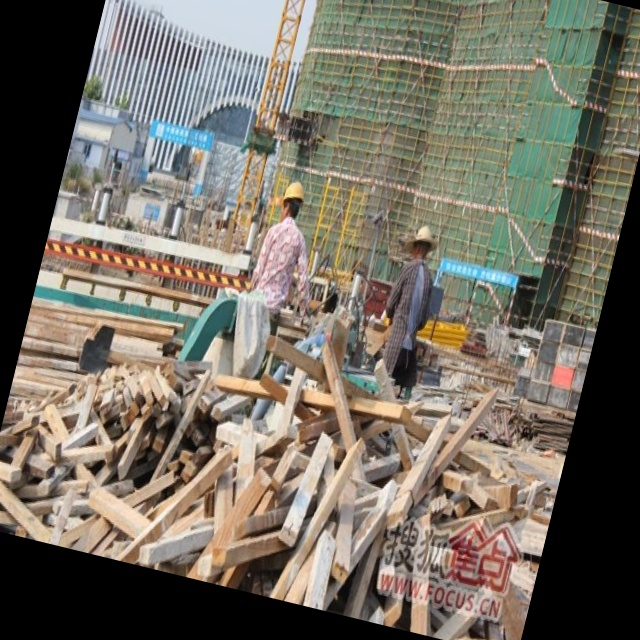Con_Casco: (278, 179, 308, 222)
Sin_Chaleco: (252, 217, 305, 310), (387, 258, 438, 353)
